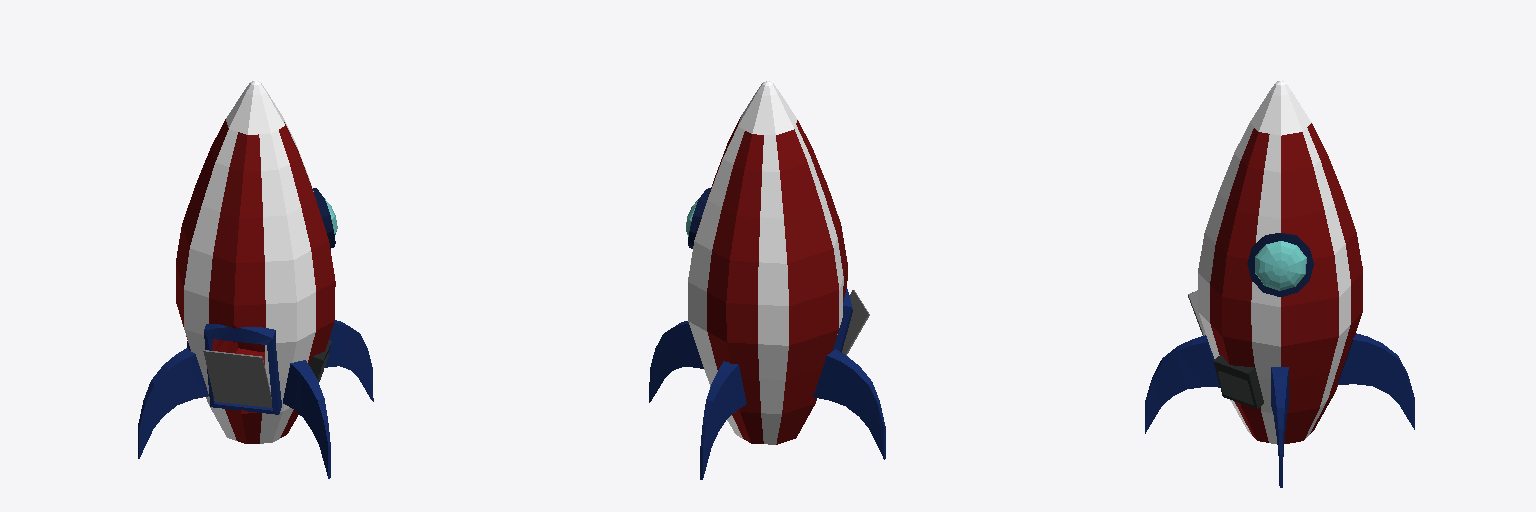
File: Rocket.obj
3 views of the same model, side by side, from view 1: azimuth 30°, elevation 25°; view 2: azimuth 150°, elevation 25°; view 3: azimuth 270°, elevation 25° (orthographic).
Visible parts, largest first — view 1: BODY, FINS, DOOR, DOOR_FRAME, WINDOW; view 2: BODY, FINS, DOOR, WINDOW; view 3: BODY, FINS, WINDOW, VENT.
Boxes of the visible parts, <box> form: BODY: <box>176,81,335,443</box>; FINS: <box>138,320,373,478</box>; DOOR: <box>203,350,271,407</box>; DOOR_FRAME: <box>204,324,281,414</box>; WINDOW: <box>313,188,337,248</box>; BODY: <box>688,81,847,444</box>; FINS: <box>649,321,885,479</box>; DOOR: <box>842,290,869,355</box>; WINDOW: <box>686,188,710,248</box>; BODY: <box>1198,81,1362,443</box>; FINS: <box>1145,333,1414,487</box>; WINDOW: <box>1247,233,1313,296</box>; VENT: <box>1213,355,1263,408</box>.
Bounding box in the file's own units: 8.24 × 11.76 × 8.21.